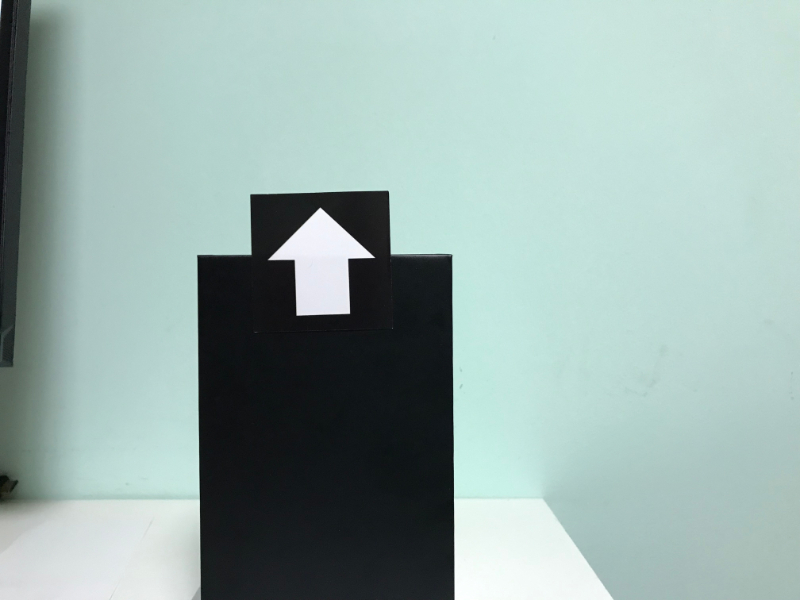UA-1: (255, 196, 387, 329)
